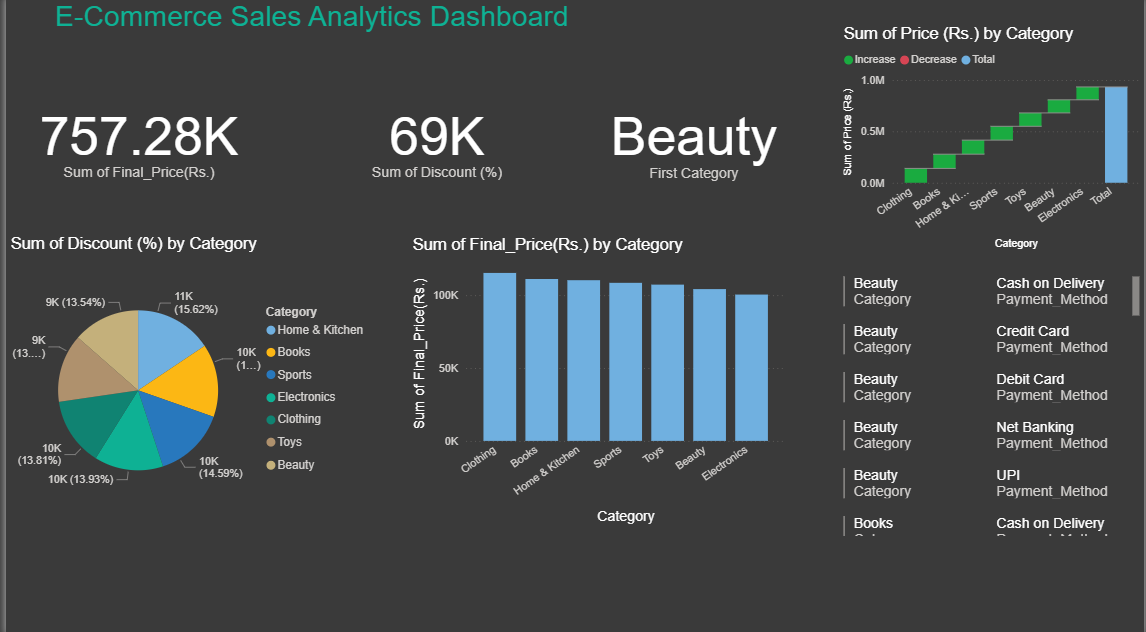

What the dashboard file says about the page in this screenshot:
{"tool":"powerbi","page":{"name":"Page 1","canvas":[1280,720],"ordinal":0},"visuals":[{"type":"textbox","box":[10.1,0,675,57.4],"z":0},{"type":"card","fields":{"Values":["Sum(E-Commerce Dataset.Final_Price(Rs.))"]},"box":[10.3,69.5,279.1,183.4],"z":1000},{"type":"card","fields":{"Values":["Sum(E-Commerce Dataset.Discount (%))"]},"box":[329.6,84.4,310.5,153],"z":2000},{"type":"pieChart","fields":{"Category":["E-Commerce Dataset.Category"],"Y":["Sum(E-Commerce Dataset.Discount (%))"]},"box":[0,267.8,416.2,330.8],"z":3000},{"type":"columnChart","fields":{"Category":["E-Commerce Dataset.Category"],"Y":["Sum(E-Commerce Dataset.Final_Price(Rs.))"]},"box":[452.2,268.9,429.8,329.6],"z":4000},{"type":"waterfallChart","fields":{"Category":["E-Commerce Dataset.Category"],"Y":["Sum(E-Commerce Dataset.Price (Rs.))"]},"box":[937.6,31.9,342.9,258.6],"z":5000},{"type":"card","fields":{"Values":["Min(E-Commerce Dataset.Category)"]},"box":[632.3,85.4,283.7,152.7],"z":6000},{"type":"multiRowCard","fields":{"Values":["E-Commerce Dataset.Category","E-Commerce Dataset.Payment_Method"]},"box":[937.1,310.5,343.1,301.5],"z":7000}]}

Visuals, with their boxes in screenshot pixels (x1, y1, x2, y2), scaled from the page's 1280x720 canvas onto the 1146x632 screenshot:
textbox: [9,0,613,50]
card - Sum(E-Commerce Dataset.Final_Price(Rs.)): [9,61,259,222]
card - Sum(E-Commerce Dataset.Discount (%)): [295,74,573,208]
pieChart - E-Commerce Dataset.Category x Sum(E-Commerce Dataset.Discount (%)): [0,235,373,525]
columnChart - E-Commerce Dataset.Category x Sum(E-Commerce Dataset.Final_Price(Rs.)): [405,236,790,525]
waterfallChart - E-Commerce Dataset.Category x Sum(E-Commerce Dataset.Price (Rs.)): [839,28,1145,255]
card - Min(E-Commerce Dataset.Category): [566,75,820,209]
multiRowCard - E-Commerce Dataset.Category x E-Commerce Dataset.Payment_Method: [839,273,1145,537]
